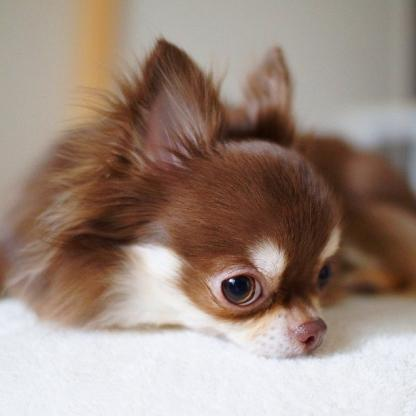Chihuahua: (40, 20, 416, 388)
